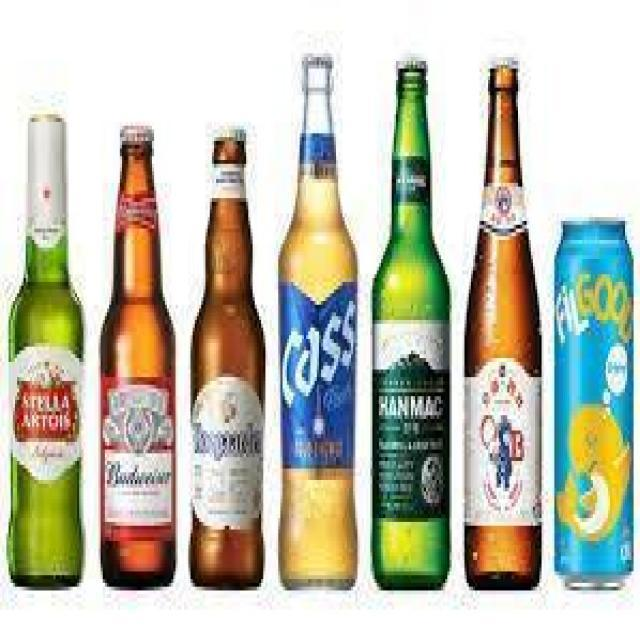beer-bottle: (275, 42, 363, 602), (368, 51, 454, 594), (464, 51, 544, 592), (5, 108, 88, 594), (186, 122, 268, 592), (97, 119, 178, 592)
beer-can: (552, 215, 637, 592)
